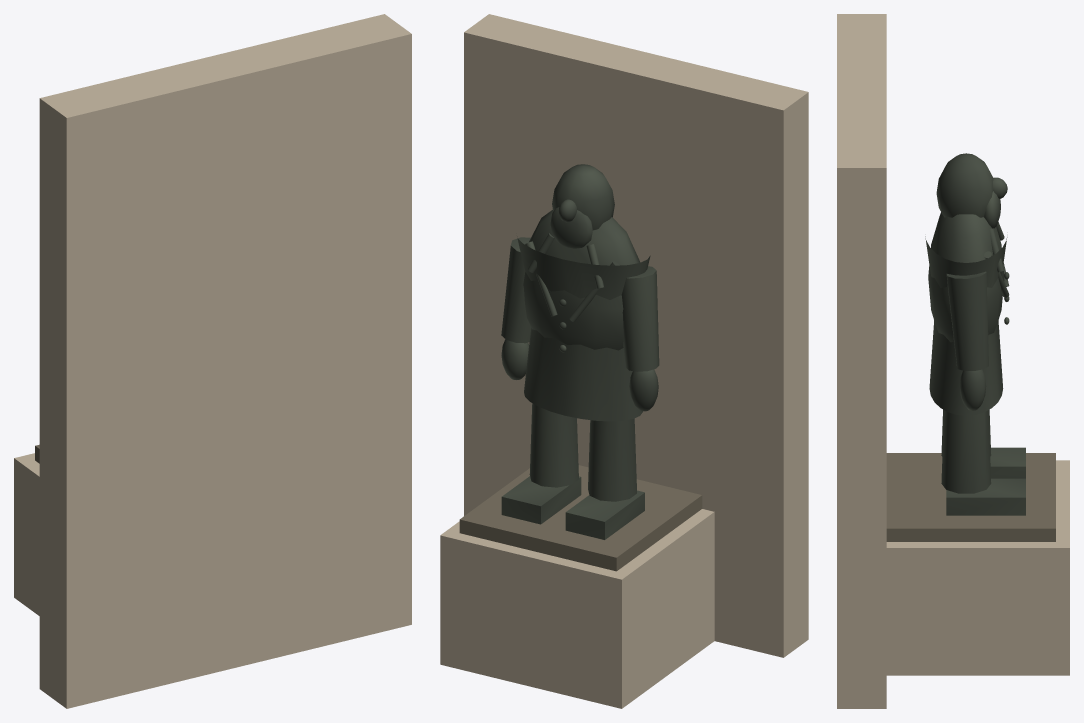
Rendered from monument-ismail-qemali.glb.
The picture shows the model from 3 angles, left to right: view 1: azimuth 30°, elevation 25°; view 2: azimuth 150°, elevation 25°; view 3: azimuth 270°, elevation 25°; orthographic projection. The views are drawn at different scales.
Parts seen in each view (by area): view 1: part-1; view 2: part-1, part-0, part-2; view 3: part-1, part-0, part-2.
Part boxes in pixels (x1=…): part-1: x1=14, y1=14, x2=411, y2=708; part-1: x1=440, y1=14, x2=808, y2=708; part-0: x1=501, y1=164, x2=659, y2=539; part-2: x1=459, y1=465, x2=702, y2=571; part-1: x1=837, y1=14, x2=1069, y2=708; part-0: x1=925, y1=153, x2=1025, y2=515; part-2: x1=886, y1=453, x2=1055, y2=541.
Size of the model in its own units: 2.2 by 3.6 by 1.4.
